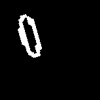chain: (18, 14, 41, 56)
